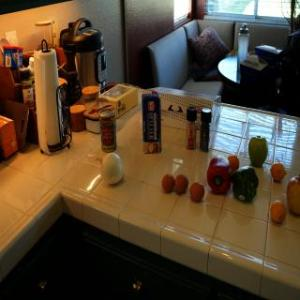bell_pepper: (203, 156, 233, 196), (230, 167, 260, 203)
egg: (190, 182, 206, 202), (174, 173, 188, 195), (162, 172, 175, 194)
onion: (96, 152, 126, 186)
